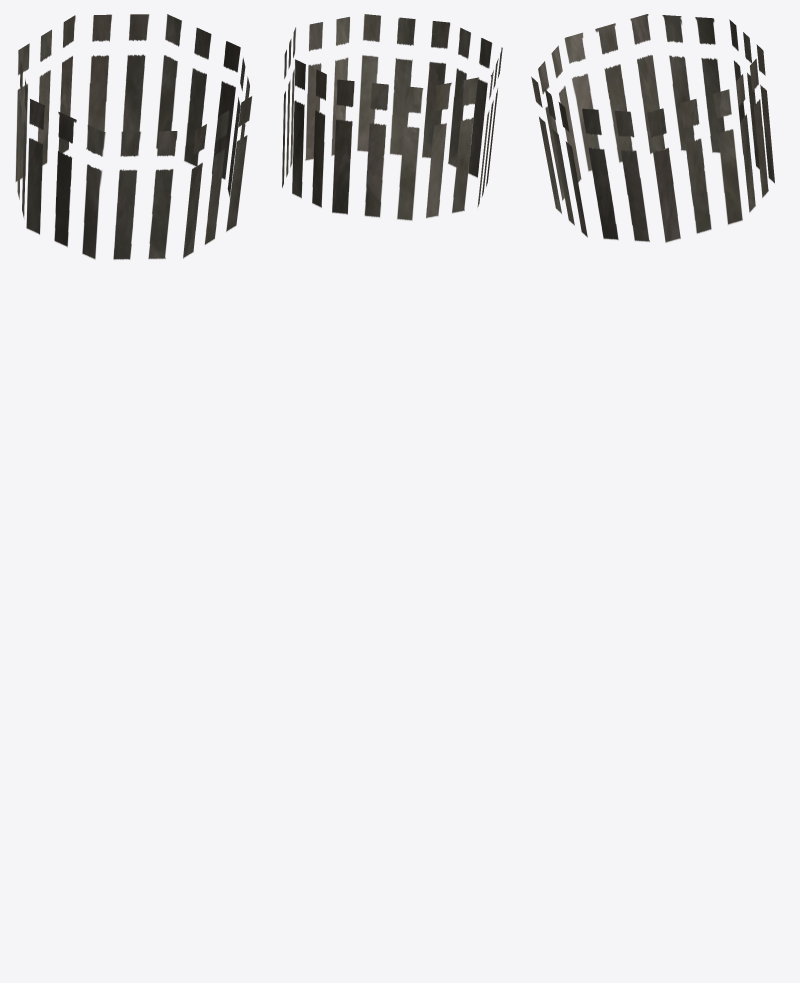
Rendered from Wall_Torch.glb.
The picture shows the model from 3 angles, left to right: view 1: azimuth 30°, elevation 25°; view 2: azimuth 150°, elevation 25°; view 3: azimuth 270°, elevation 25°; orthographic projection. The views are drawn at different scales.
Parts seen in each view (by area): view 1: torch; view 2: torch; view 3: torch.
Boxes of the visible parts, x1,y1,x2,y2 form: torch: [15, 14, 251, 259]; torch: [282, 14, 502, 220]; torch: [531, 14, 774, 242].
Bounding box in the file's own units: 0.2088 × 0.9 × 0.2271.
Materials: 1 (1 with a texture image).
